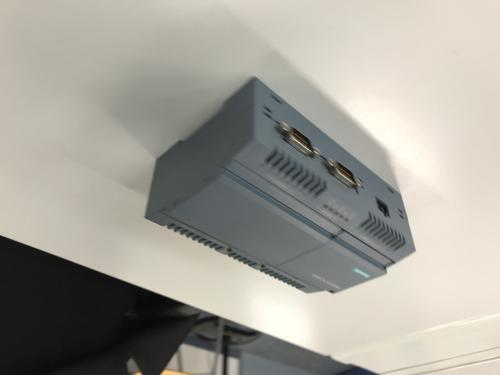device: (144, 76, 416, 295)
